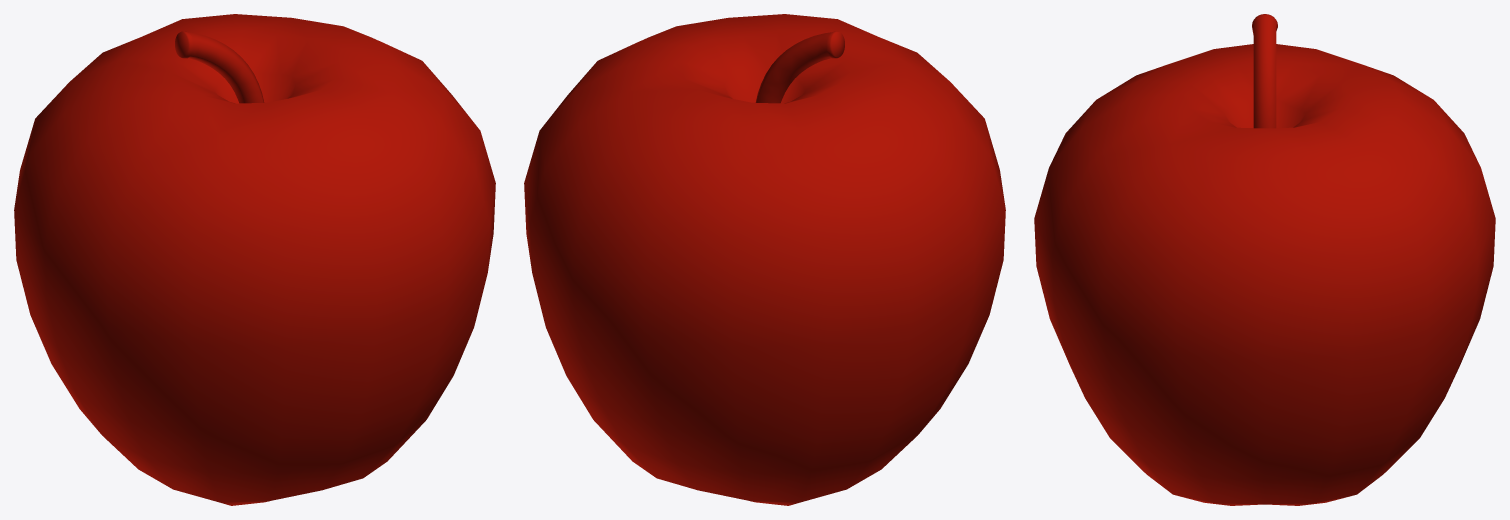
3 renders of one model, left to right at view 1: azimuth 30°, elevation 25°; view 2: azimuth 150°, elevation 25°; view 3: azimuth 270°, elevation 25°, orthographic. The views are drawn at different scales.
Parts seen in each view (by area): view 1: nurbsToPoly1; view 2: nurbsToPoly1; view 3: nurbsToPoly1.
Part boxes in pixels (box(x1,y1,x2,y2)): nurbsToPoly1: box(14, 14, 495, 505); nurbsToPoly1: box(524, 14, 1005, 505); nurbsToPoly1: box(1034, 14, 1495, 505).
Bounding box in the file's own units: 8.93 × 9.19 × 8.93.
